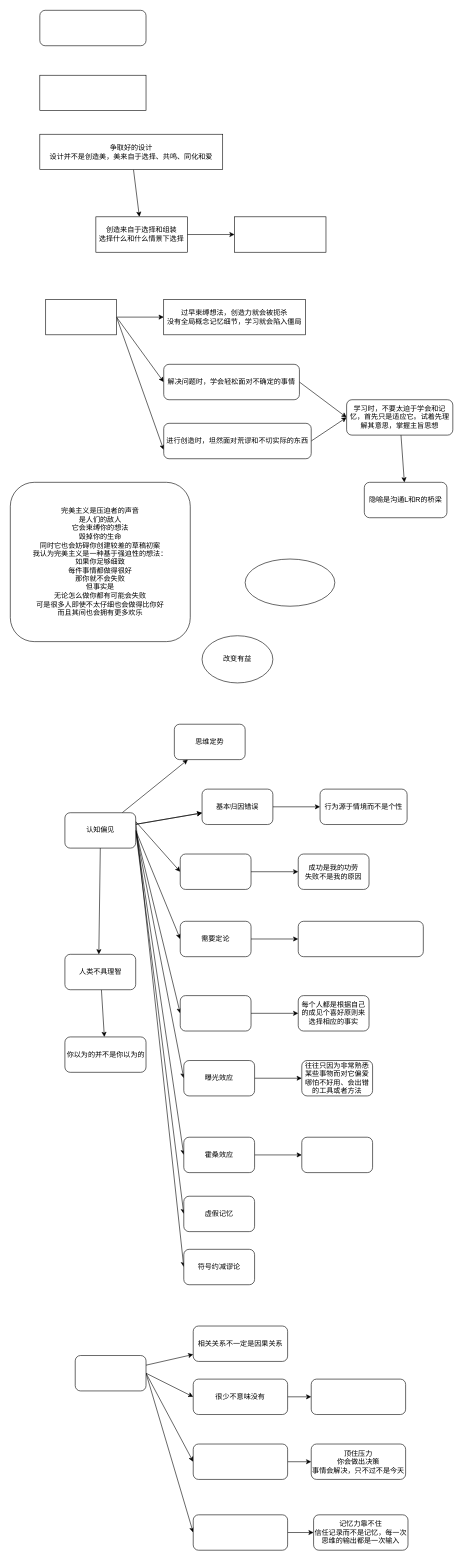
Some shapes in this 463 by 1561 pixel diagram are drawn without their labels. The centre of each missing label's shape, as x and y in pixels:
人们在知道自己被审视时，往往会改变自己的行为: the point at 337,1155
如何消除认知偏见: the point at 110,1373
学习：R转L: the point at 81,317
对疑问和不确定性感到不舒服 强行给出不成熟的定论是错的: the point at 360,939
工作环境需要提供丰富的感观机会，否则会损害大脑: the point at 92,93
延迟下结论 适应不确定性: the point at 240,1461
模式匹配: the point at 280,234
真正想要了解一只青蛙 解剖不是最好的办法 更好的办法是构造一只青蛙: the point at 92,28
绝不说“绝不”: the point at 358,1397
自私的偏见: the point at 215,871
认可上的偏见: the point at 215,1013
错误是一种潜在的提示: the point at 290,582
难以回忆: the point at 240,1532
